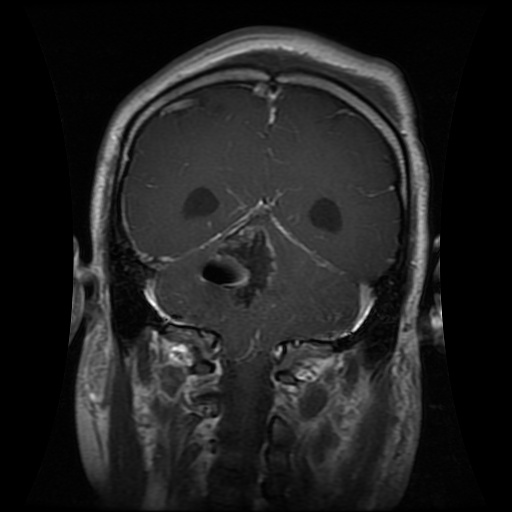glioma: (192, 218, 277, 310)
